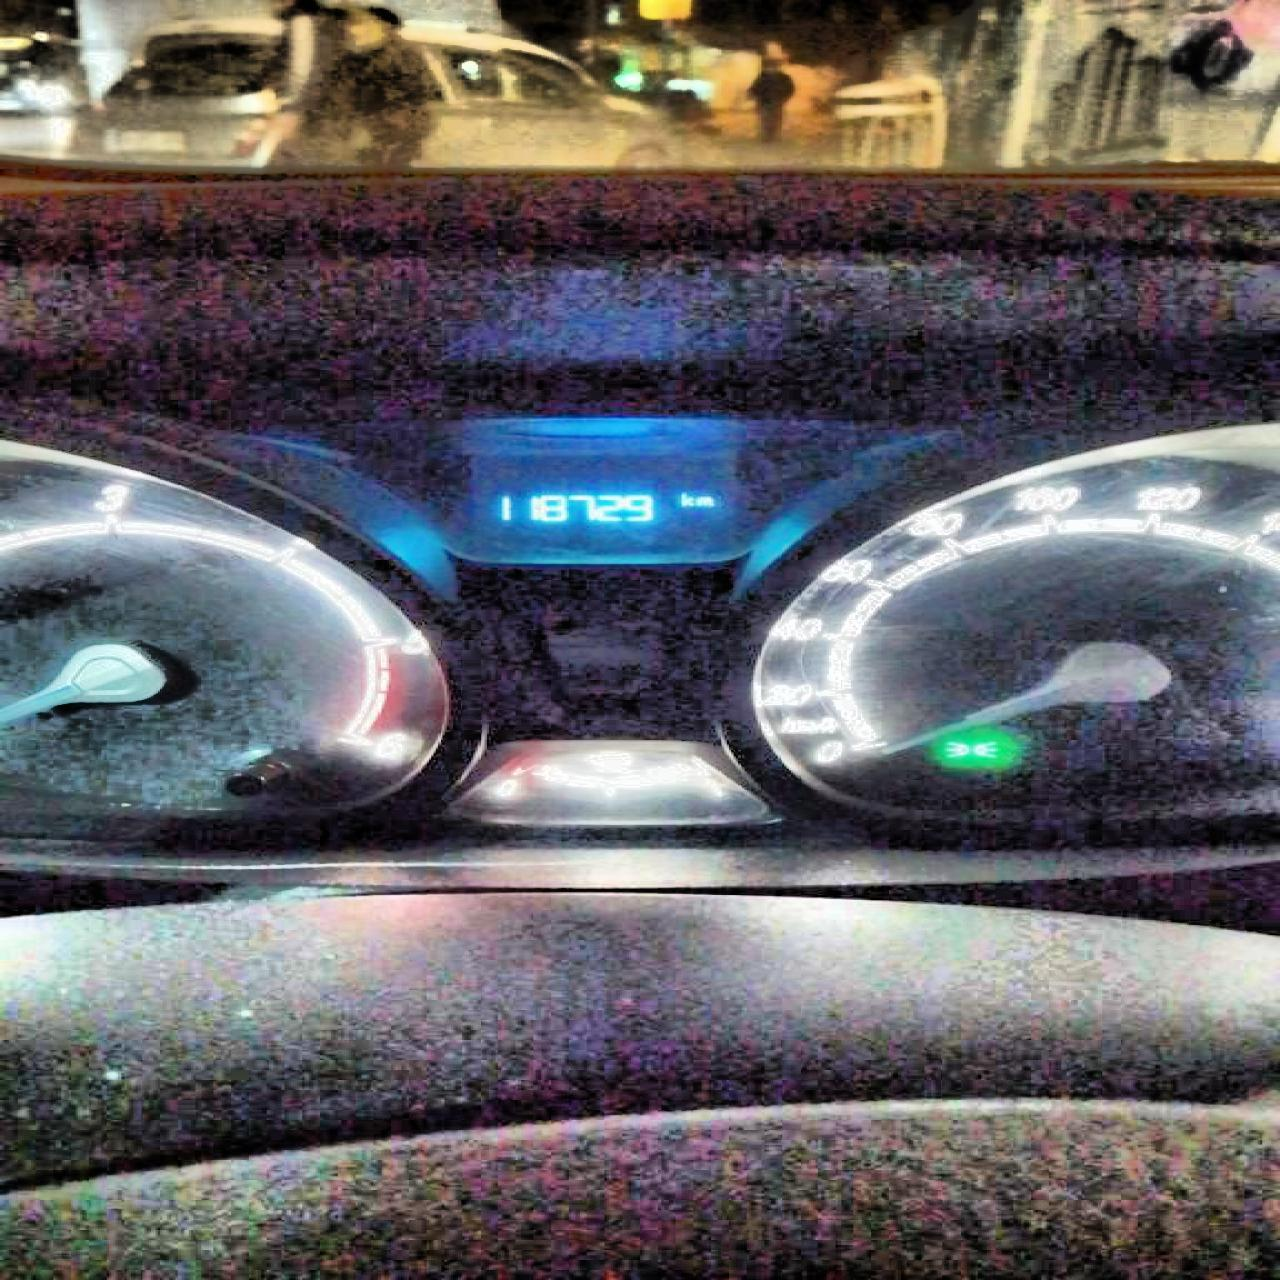1: (526, 495, 538, 520), (501, 495, 509, 520)
2: (593, 493, 622, 522)
7: (567, 493, 593, 520)
8: (538, 493, 566, 522)
9: (622, 493, 651, 520)
X: (694, 495, 714, 506), (678, 491, 692, 506)
odometer: (461, 448, 736, 551)
